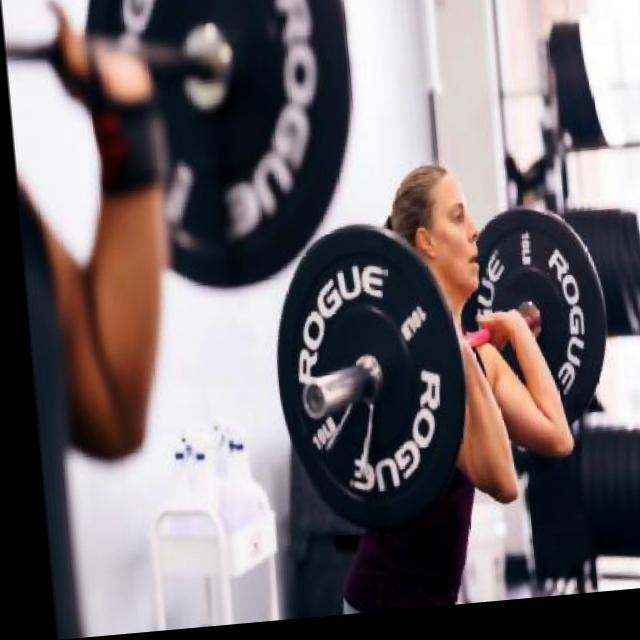barbell: (254, 221, 473, 556)
